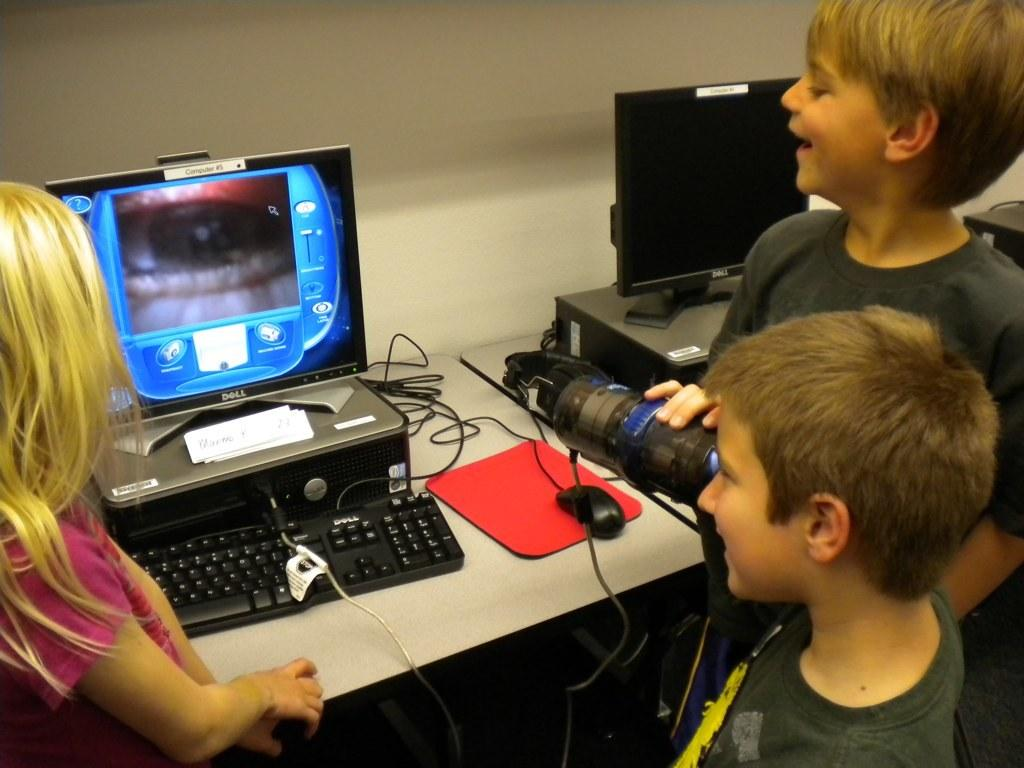Computer-mouse: (559, 484, 625, 538)
